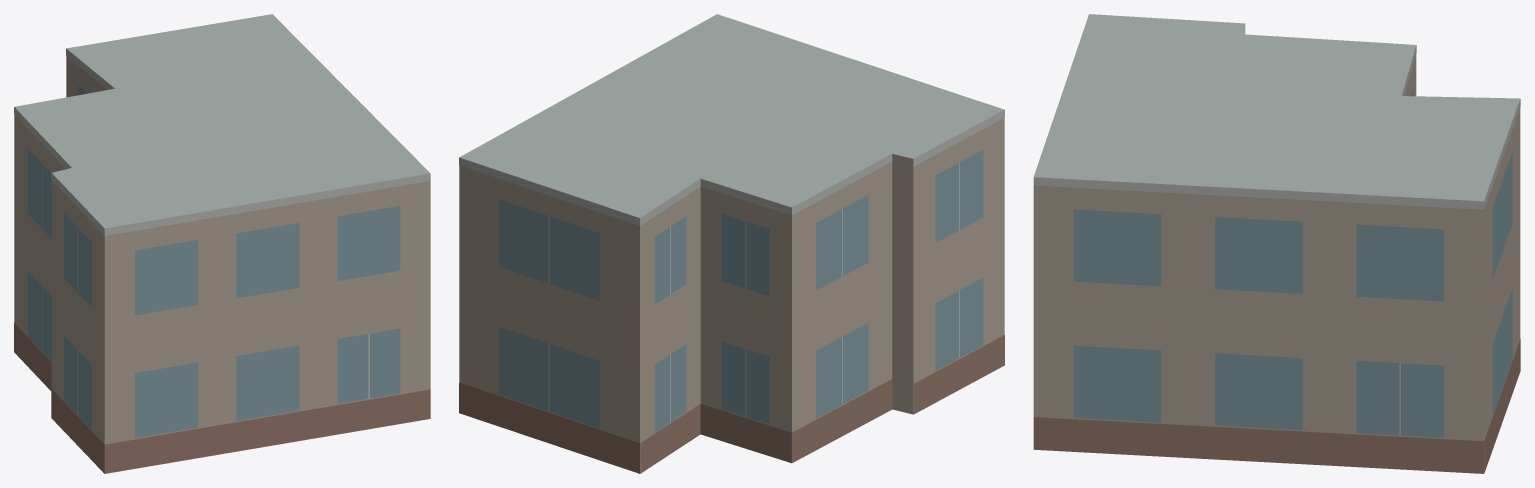
Rendered from survey-upis-32868656.glb.
The picture shows the model from 3 angles, left to right: view 1: azimuth 30°, elevation 25°; view 2: azimuth 150°, elevation 25°; view 3: azimuth 270°, elevation 25°; orthographic projection. The views are drawn at different scales.
Parts seen in each view (by area): view 1: survey-upis-32868656.tmp; view 2: survey-upis-32868656.tmp; view 3: survey-upis-32868656.tmp.
Boxes of the visible parts, x1=… form: survey-upis-32868656.tmp: x1=14, y1=14, x2=430, y2=473; survey-upis-32868656.tmp: x1=459, y1=14, x2=1004, y2=473; survey-upis-32868656.tmp: x1=1033, y1=14, x2=1520, y2=473.
Bounding box in the file's own units: 11.73 × 7.95 × 12.89.
